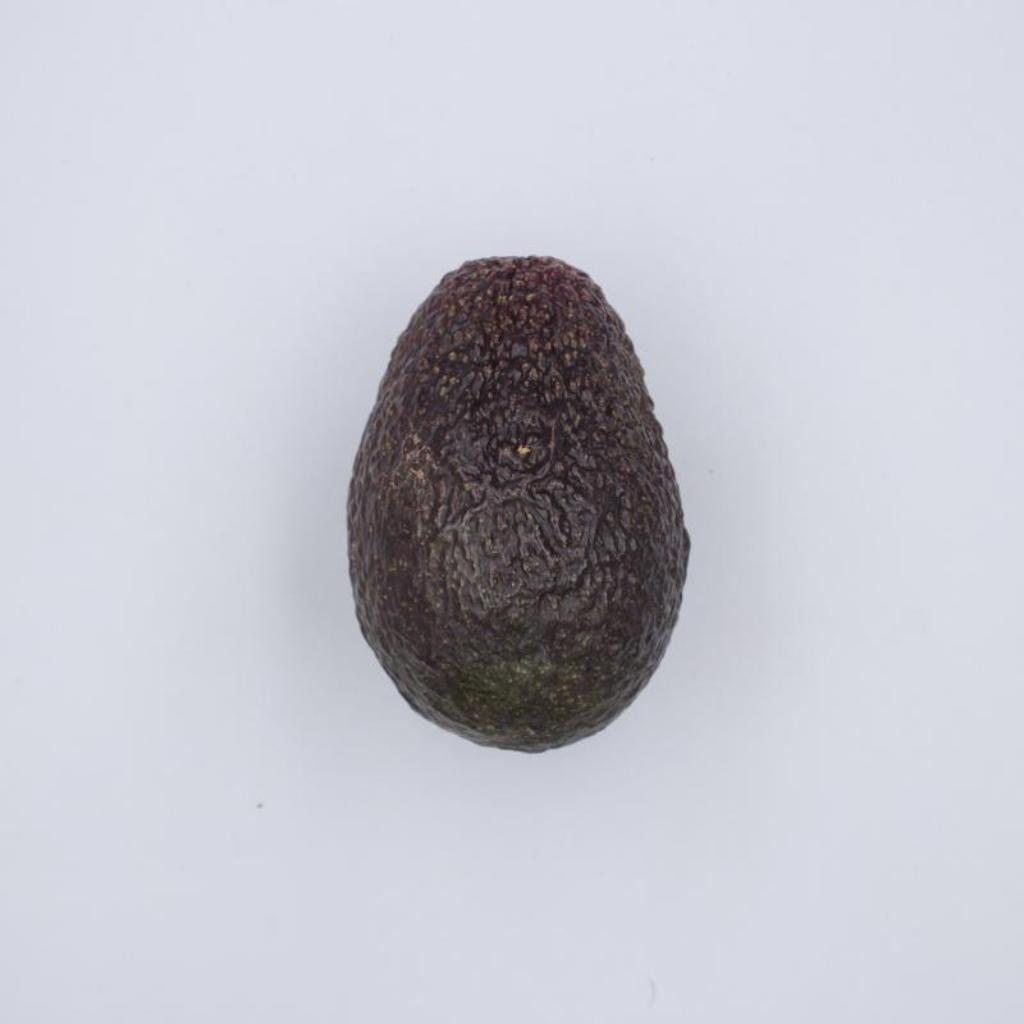healthy: (348, 257, 689, 751)
